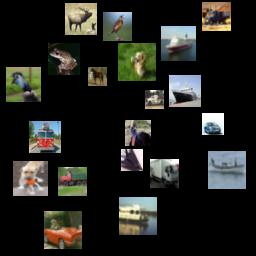airplane: (121, 149, 143, 171)
automobile: (44, 211, 82, 249), (202, 113, 224, 135)
bird: (6, 67, 41, 102), (103, 12, 132, 41), (125, 120, 151, 146)
deer: (65, 3, 97, 35)
dog: (118, 43, 156, 81), (13, 161, 48, 196)
frog: (48, 43, 80, 75)
ship: (119, 197, 157, 235), (208, 151, 246, 189), (161, 26, 196, 61), (169, 75, 201, 107)
truck: (29, 121, 61, 153), (150, 159, 179, 188), (58, 167, 87, 196), (202, 2, 231, 31), (145, 90, 164, 109)
